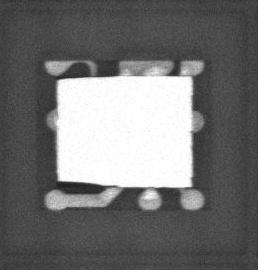DIE_BROKEN: (57, 75, 124, 82), (57, 181, 117, 188)
